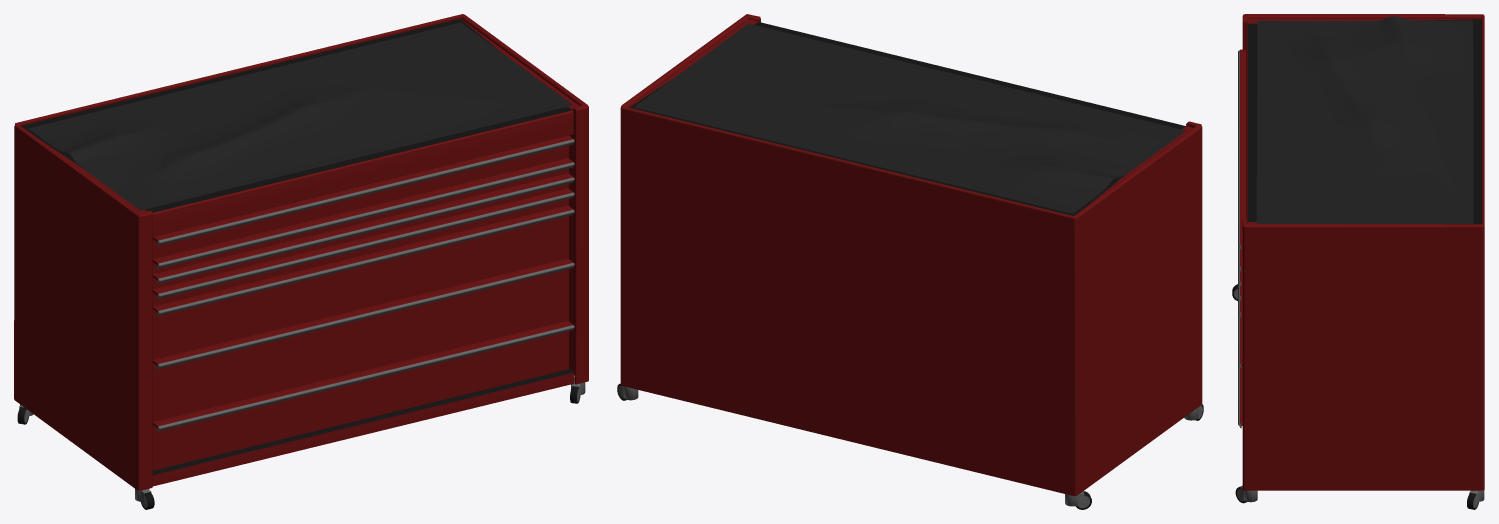
File: SeanElstonToolBox_shortUnwrapped_02.fbx
The picture shows the model from 3 angles, left to right: view 1: azimuth 30°, elevation 25°; view 2: azimuth 150°, elevation 25°; view 3: azimuth 270°, elevation 25°; orthographic projection. The views are drawn at different scales.
Parts seen in each view (by area): view 1: ToolBox_short; view 2: ToolBox_short; view 3: ToolBox_short.
Boxes of the visible parts, bbox=[...] form: ToolBox_short: bbox=[14, 14, 588, 509]; ToolBox_short: bbox=[617, 14, 1203, 509]; ToolBox_short: bbox=[1232, 14, 1484, 509].
Bounding box in the file's own units: 197 × 121 × 96.25.
